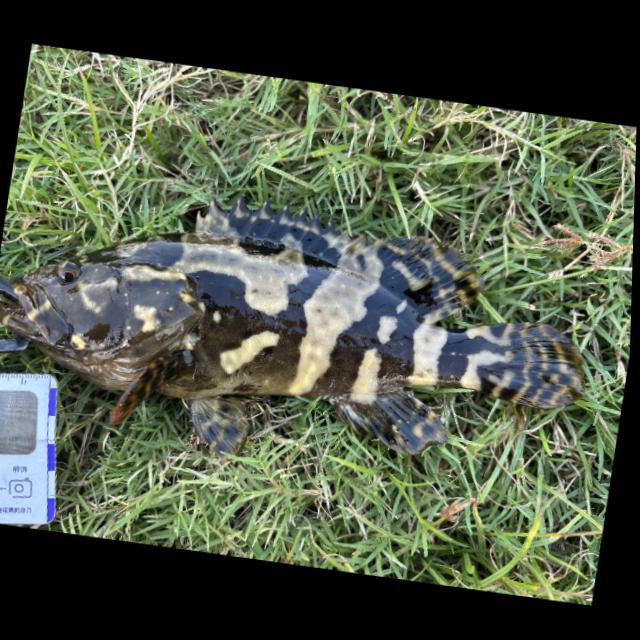Groupers: (0, 167, 605, 505)
